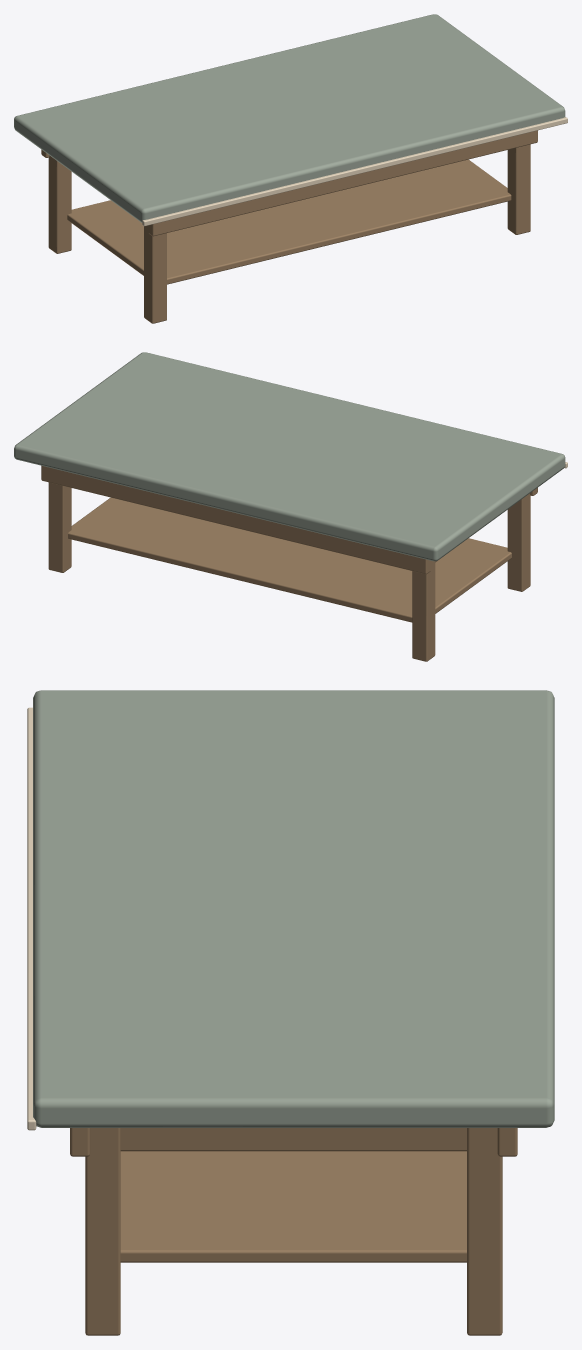
File: craft-bench-v3.glb
The picture shows the model from 3 angles, top to bottom: view 1: azimuth 30°, elevation 25°; view 2: azimuth 150°, elevation 25°; view 3: azimuth 270°, elevation 25°; orthographic projection. The views are drawn at different scales.
Visible parts, largest first — view 1: Solid worktable with muted stone top, Lower shelf, Table leg (×3), Apron, Oak front edge; view 2: Solid worktable with muted stone top, Lower shelf, Table leg (×3), Apron; view 3: Solid worktable with muted stone top, Lower shelf, Table leg (×2), Side apron, Oak front edge.
Part boxes in pixels (x1,y1,x2,y2): Solid worktable with muted stone top: (14,14,565,222); Lower shelf: (67,159,511,284); Table leg (×3): (48,144,530,323); Apron: (148,130,537,236); Oak front edge: (142,117,567,226); Solid worktable with muted stone top: (14,352,565,561); Lower shelf: (68,497,511,622); Table leg (×3): (48,482,530,661); Apron: (41,465,430,574); Solid worktable with muted stone top: (33,690,554,1127); Lower shelf: (120,1151,466,1262); Table leg (×2): (85,1128,502,1335); Side apron: (120,1128,466,1151); Oak front edge: (27,707,36,1130).
Bounding box in the file's own units: 3.85 × 1.12 × 2.07.
